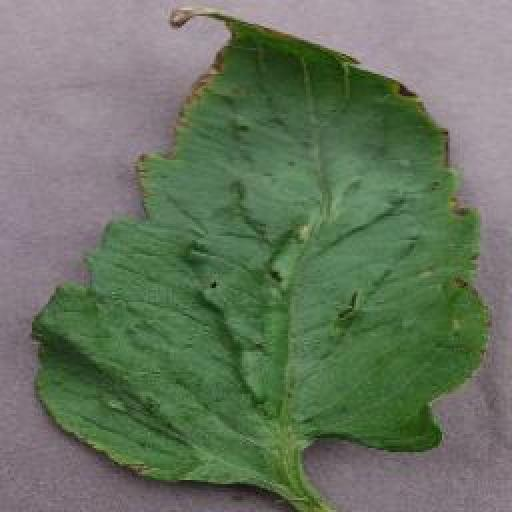Bacterial Spot: (20, 2, 496, 492)
